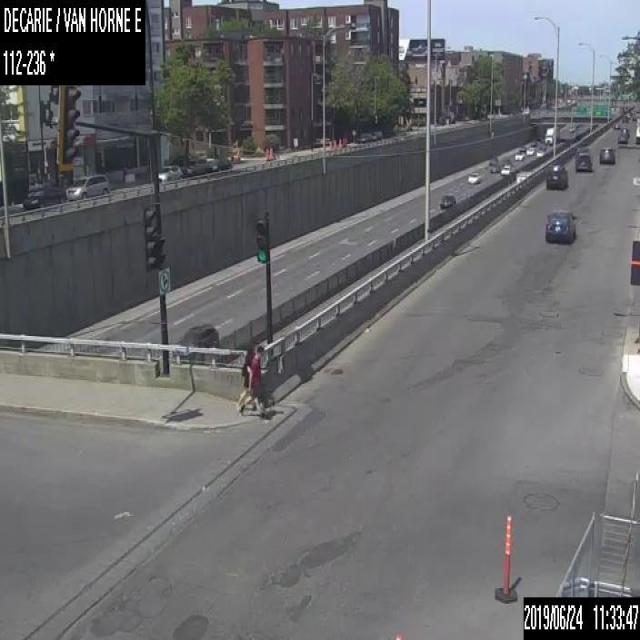construction: (494, 513, 520, 603), (268, 146, 273, 160), (265, 146, 268, 159), (328, 140, 332, 149), (338, 137, 341, 149), (333, 139, 336, 149), (342, 137, 344, 146)
pedestrian: (238, 342, 262, 418), (238, 343, 258, 412)
vehicle: (173, 323, 217, 362), (22, 181, 65, 208), (65, 174, 108, 200), (543, 210, 575, 242), (544, 163, 566, 188), (156, 163, 182, 180), (573, 151, 591, 171), (210, 157, 232, 170), (545, 126, 559, 146), (514, 168, 532, 183), (599, 146, 614, 162), (440, 192, 455, 208), (574, 146, 588, 160), (500, 162, 511, 175), (467, 172, 480, 183), (617, 132, 627, 142), (490, 162, 500, 172), (620, 126, 628, 138), (635, 118, 639, 142), (488, 157, 498, 165), (514, 152, 522, 160), (526, 147, 534, 154), (536, 150, 544, 157), (613, 121, 620, 128)
